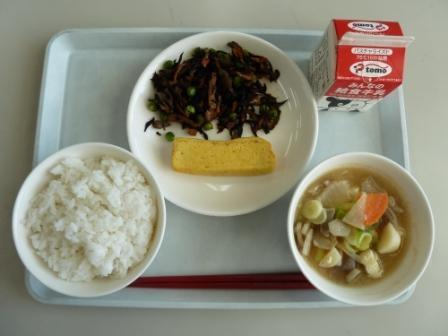Bread: (162, 126, 287, 191)
Milk: (300, 10, 416, 120)
Rice: (15, 151, 160, 293)
Soups: (291, 163, 429, 301)
salad with sauce: (144, 39, 282, 132)
